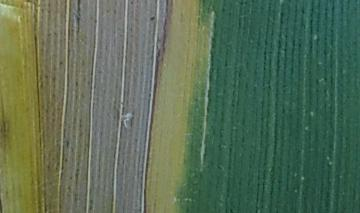tarspot: (148, 14, 157, 24)
